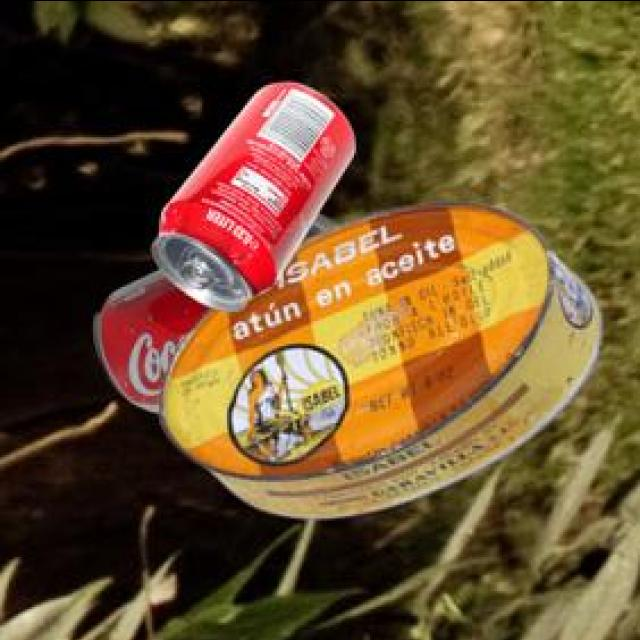logam: (155, 205, 598, 521), (90, 217, 332, 414), (149, 85, 351, 314)
